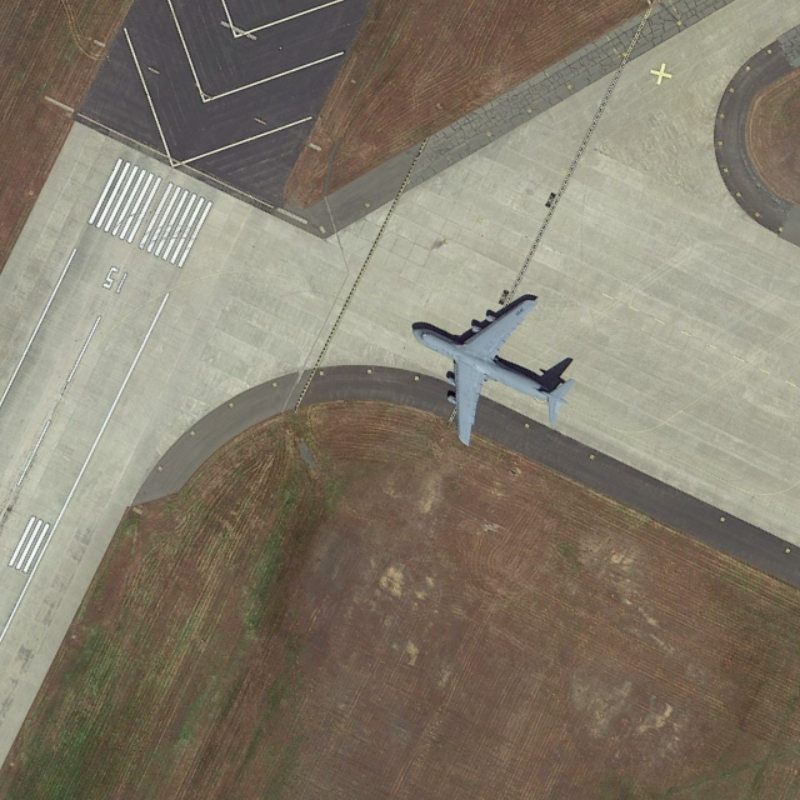A4: (399, 284, 580, 456)
